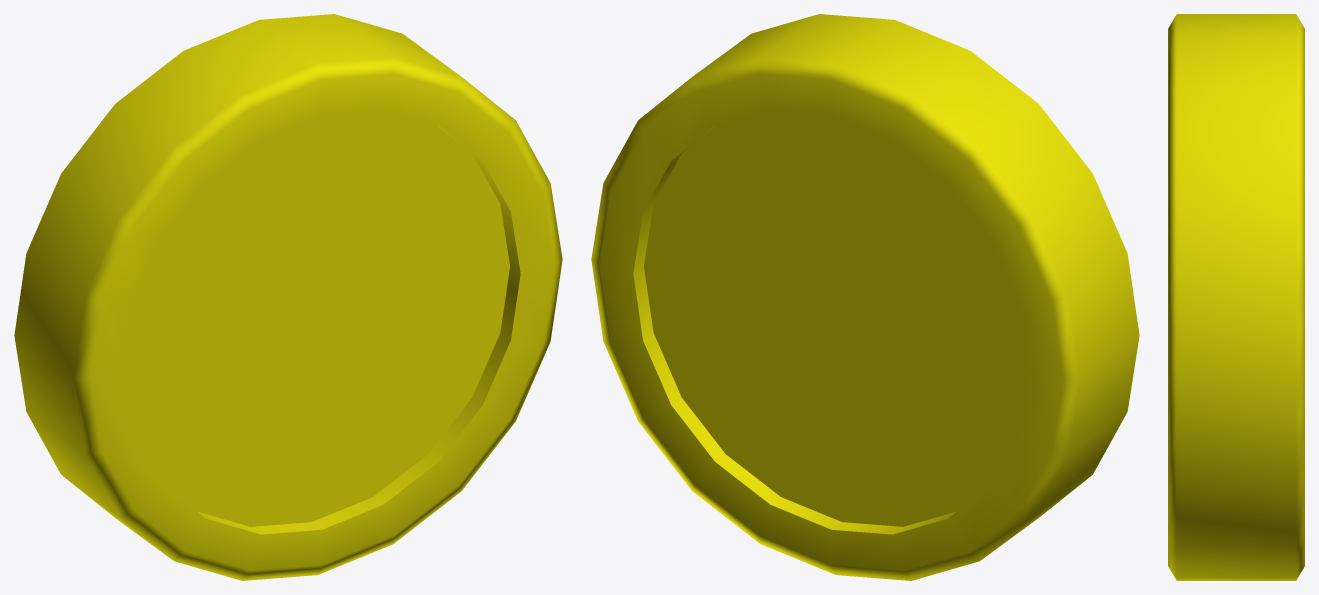
File: Coin.fbx
3 renders of one model, left to right at view 1: azimuth 30°, elevation 25°; view 2: azimuth 150°, elevation 25°; view 3: azimuth 270°, elevation 25°, orthographic.
Visible parts, largest first — view 1: Coin; view 2: Coin; view 3: Coin.
Part boxes in pixels (left/top/right/bottom): Coin: left=14, top=14, right=562, bottom=580; Coin: left=591, top=14, right=1139, bottom=580; Coin: left=1168, top=14, right=1304, bottom=580.
Bounding box in the file's own units: 61.75 × 61.75 × 14.81.
